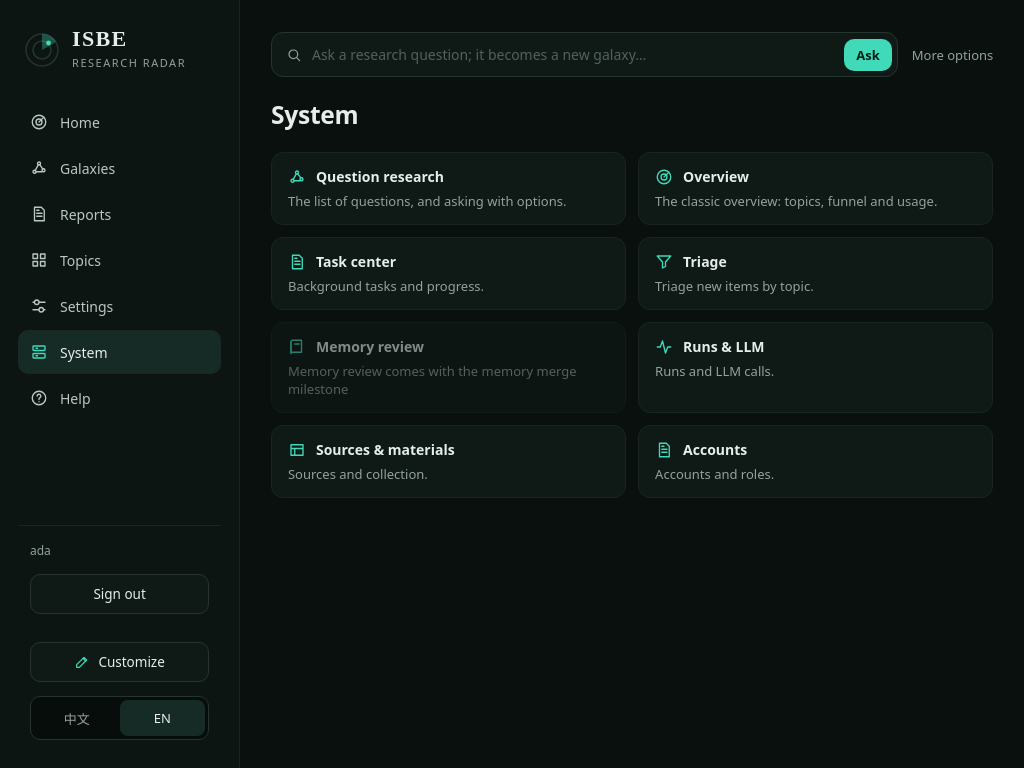
it: app shell › returns to sign-in when the session expires
The image size is (1024, 768).
Click the button "Sign out": x=120, y=594 30,574 -> 209,614
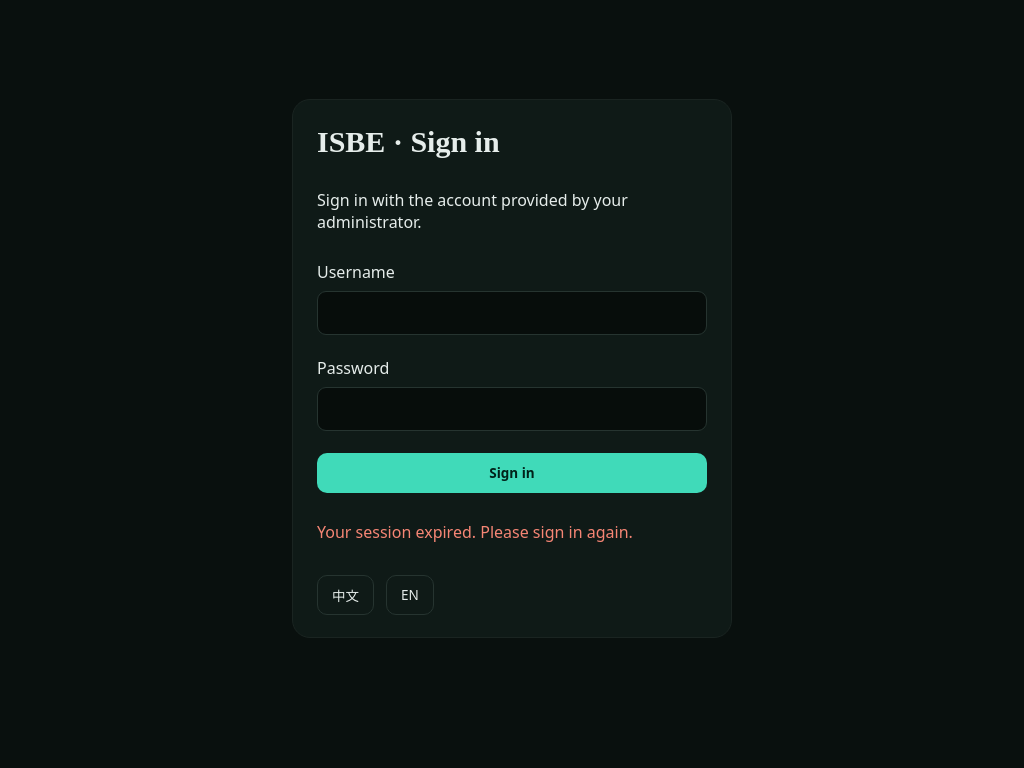
Now the text "Your session expired. Please sign in again." is shown, box 317,520 -> 633,542
